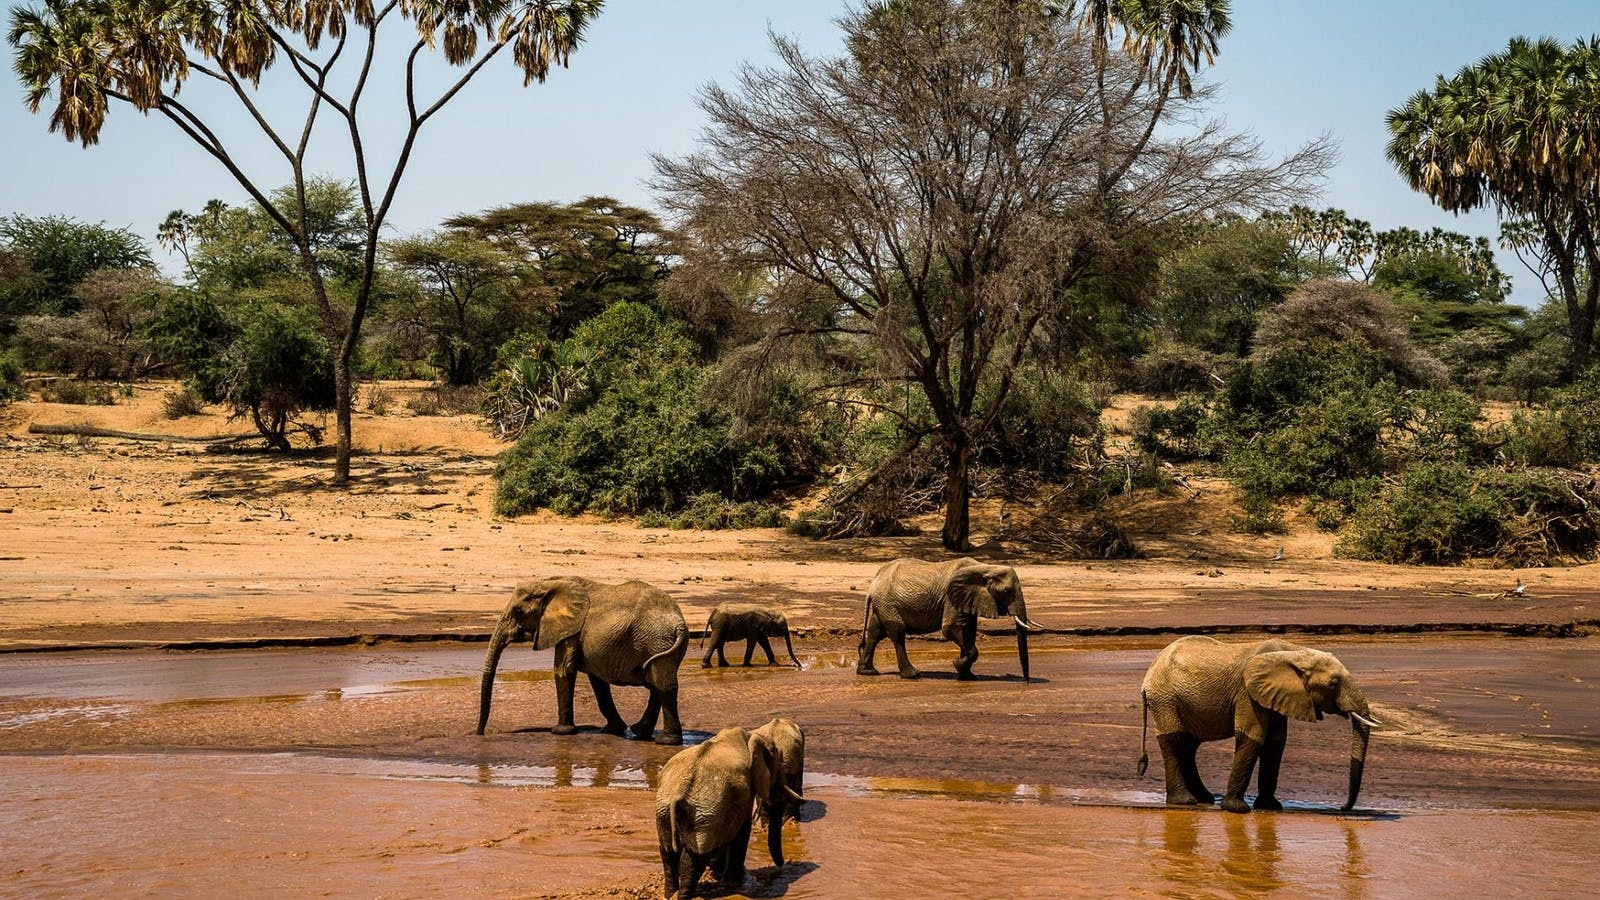elephant: (1134, 632, 1387, 823), (470, 571, 693, 747), (845, 554, 1055, 684), (648, 721, 784, 900), (696, 596, 808, 676), (746, 712, 811, 820)
